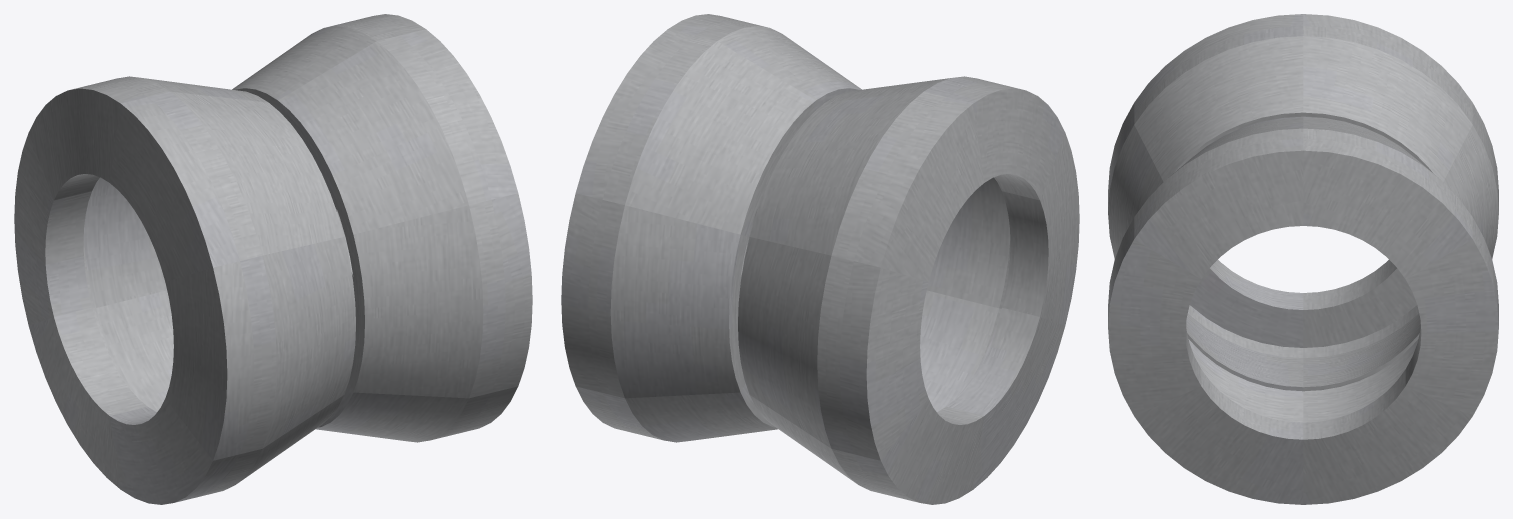
Rendered from Stator_Outer.glb.
The picture shows the model from 3 angles, left to right: view 1: azimuth 30°, elevation 25°; view 2: azimuth 150°, elevation 25°; view 3: azimuth 270°, elevation 25°; orthographic projection. The views are drawn at different scales.
Parts seen in each view (by area): view 1: New_HPM_Stator_Outer_5Aug2024; view 2: New_HPM_Stator_Outer_5Aug2024; view 3: New_HPM_Stator_Outer_5Aug2024.
Part boxes in pixels (left/top/right/bottom): New_HPM_Stator_Outer_5Aug2024: left=14, top=14, right=532, bottom=504; New_HPM_Stator_Outer_5Aug2024: left=561, top=14, right=1079, bottom=504; New_HPM_Stator_Outer_5Aug2024: left=1108, top=14, right=1498, bottom=504.
Size of the model in its own units: 0.73 by 0.822 by 0.822.
1 material, 1 textured.
